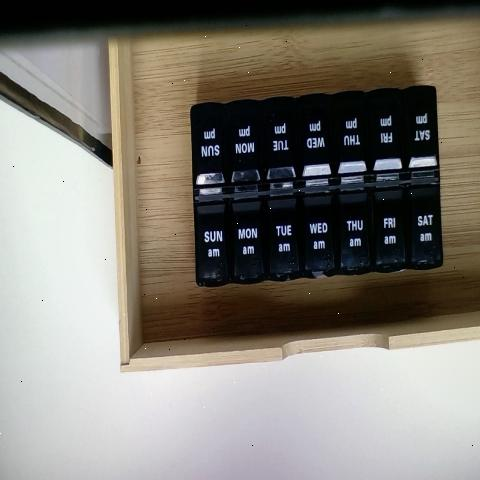FRI-am: (373, 182, 407, 269)
FRI-pm: (368, 86, 403, 170)
MON-am: (230, 200, 267, 283)
MON-pm: (224, 105, 262, 190)
SAT-am: (405, 174, 441, 264)
SAT-pm: (404, 80, 437, 163)
SUN-am: (196, 203, 229, 289)
SUN-pm: (191, 109, 224, 196)
THU-am: (337, 186, 373, 274)
THU-pm: (333, 90, 366, 174)
TUE-am: (266, 199, 299, 278)
TUE-pm: (260, 103, 298, 187)
WED-am: (300, 191, 335, 277)
WED-pm: (297, 93, 332, 177)
